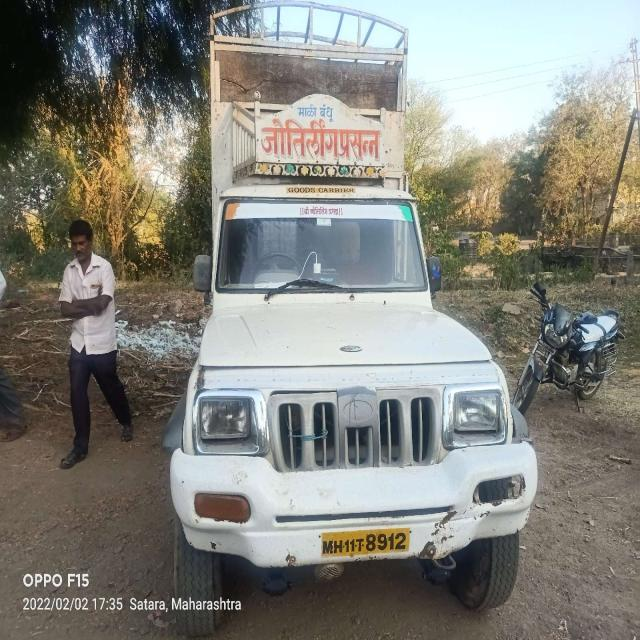light_vehicle: (170, 95, 537, 562)
